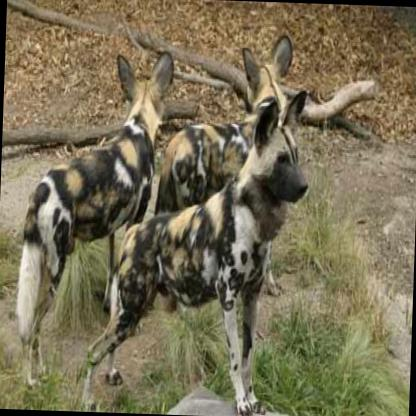African_hunting_dog: (83, 82, 312, 416), (13, 44, 176, 396), (150, 20, 294, 226)
